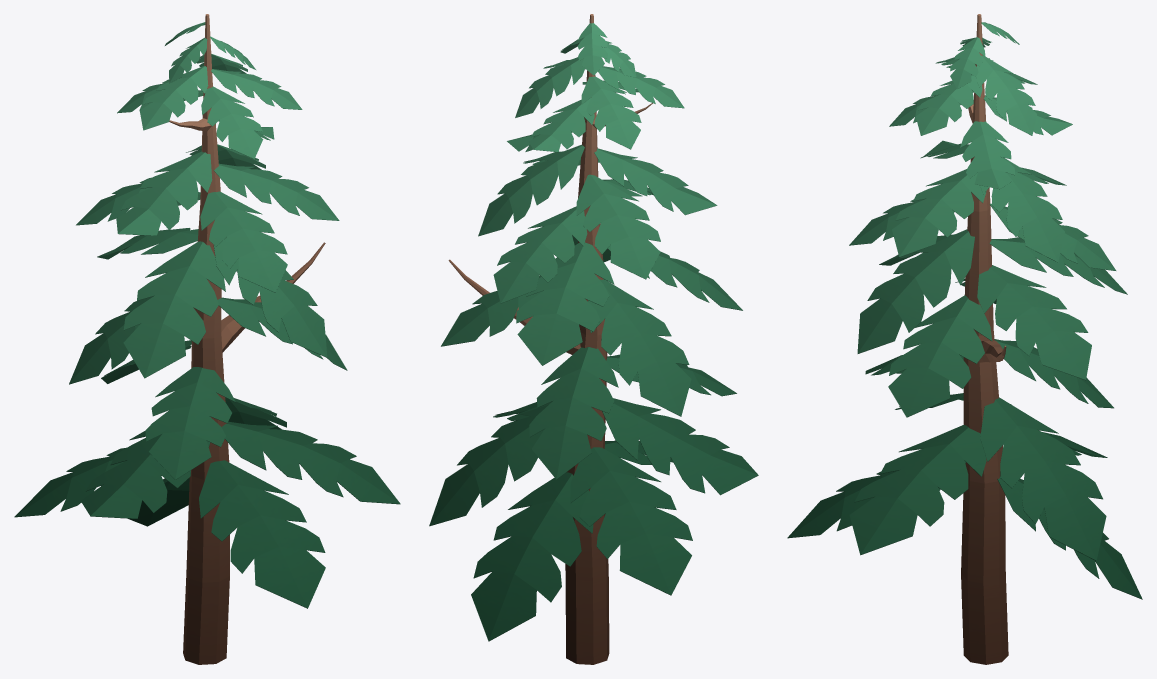
Rendered from drzewo3.fbx.
The picture shows the model from 3 angles, left to right: view 1: azimuth 30°, elevation 25°; view 2: azimuth 150°, elevation 25°; view 3: azimuth 270°, elevation 25°; orthographic projection.
Parts seen in each view (by area): view 1: liście, drzewo3; view 2: liście, drzewo3; view 3: liście, drzewo3.
Part boxes in pixels (x1,y1,x2,y2): liście: (14, 22, 400, 608); drzewo3: (169, 14, 325, 664); liście: (429, 23, 758, 641); drzewo3: (448, 14, 652, 664); liście: (787, 22, 1142, 599); drzewo3: (961, 14, 1008, 664).
Size of the model in its own units: 116 by 257 by 129.
